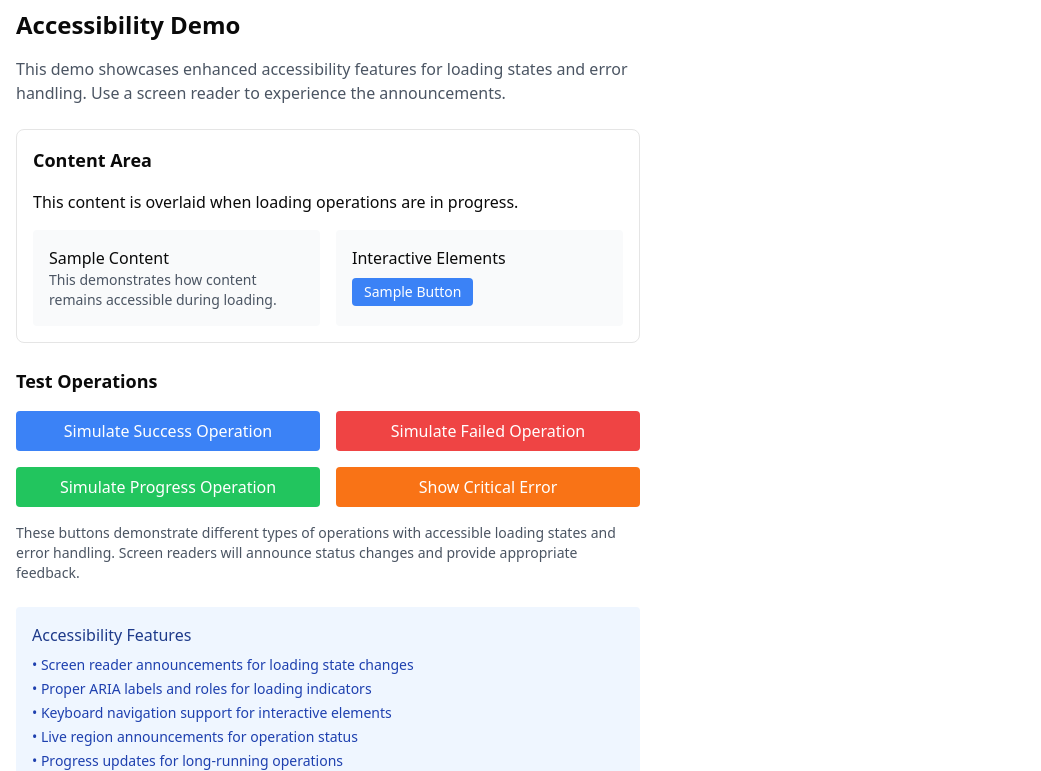
Test: AccessibilityDemo Component › should handle failed operations with error announcements
The width and height of the screenshot is (1041, 771).
Click the button "Simulate Failed Operation": [488, 431] box [336,411,640,451]
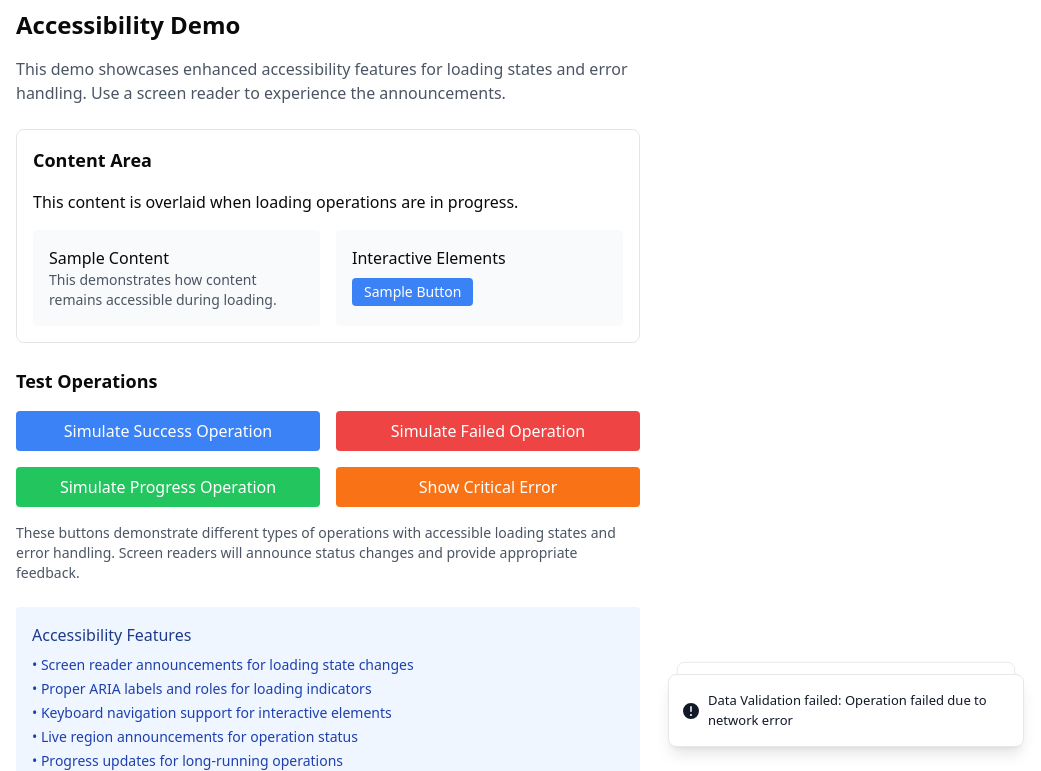
Expected: the text "Data Validation failed" is shown, [708,691,987,728]
